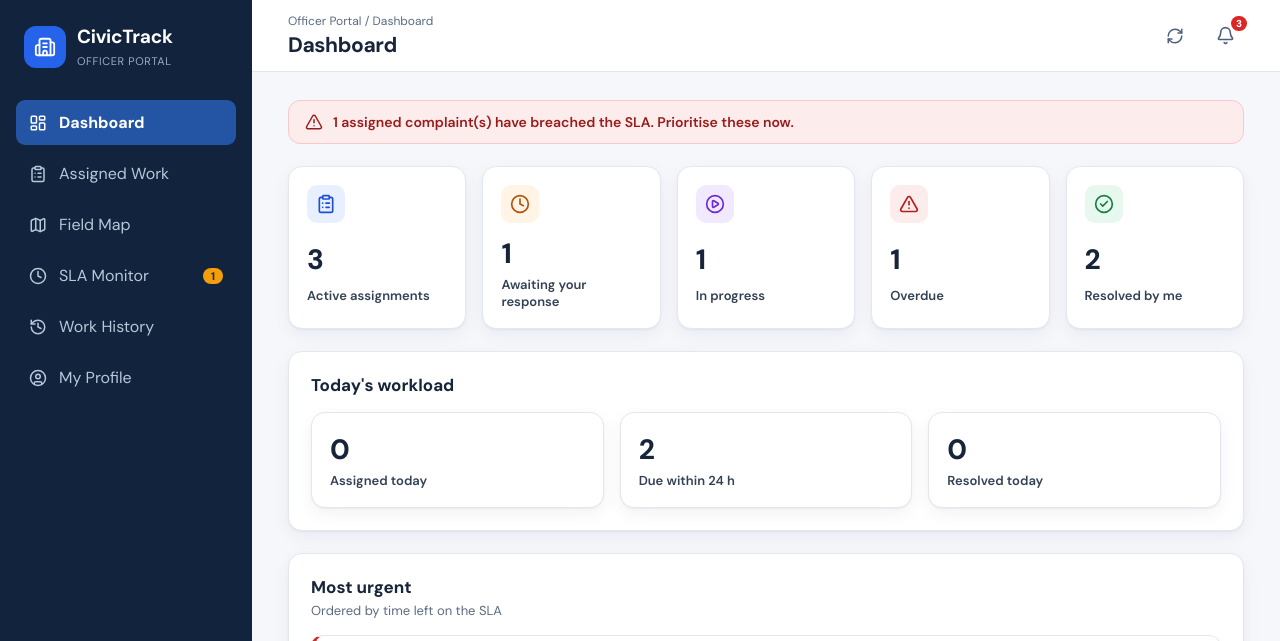
Test: officer assignment responses › shows department and zone from the officer profile
Click the button "My Profile": (126, 378) [16,355,236,400]
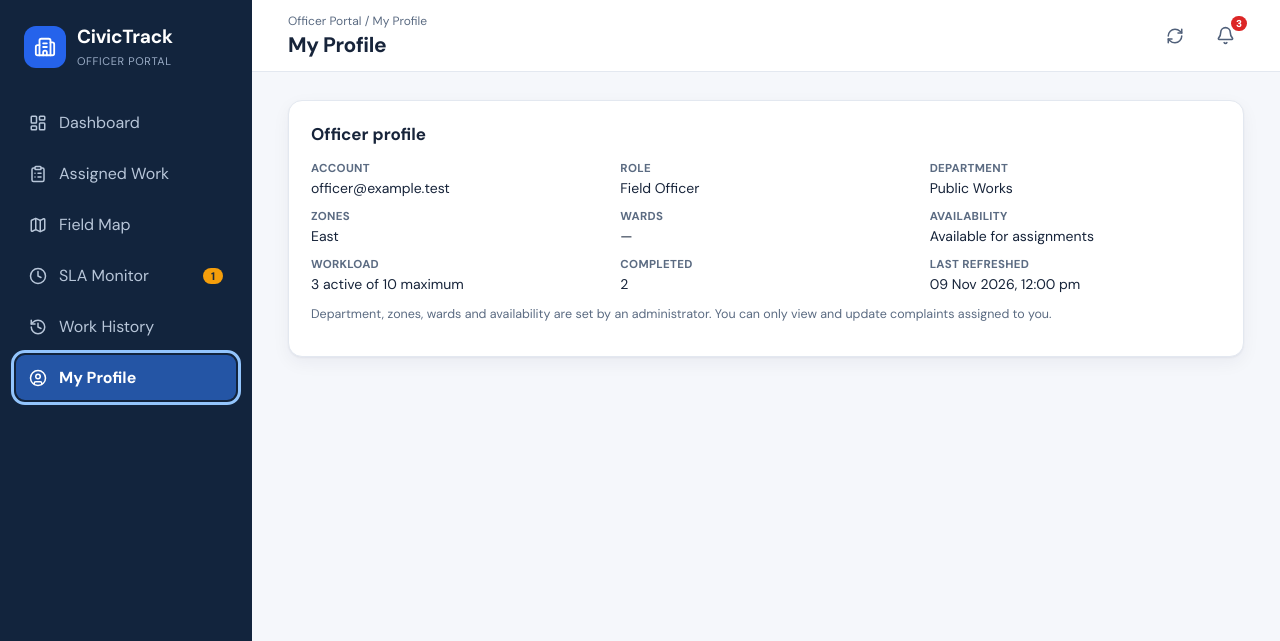
Check: the text "Public Works" is shown, box [930,179,1013,197]
Check: the text "East" is shown, box [311,227,339,245]
